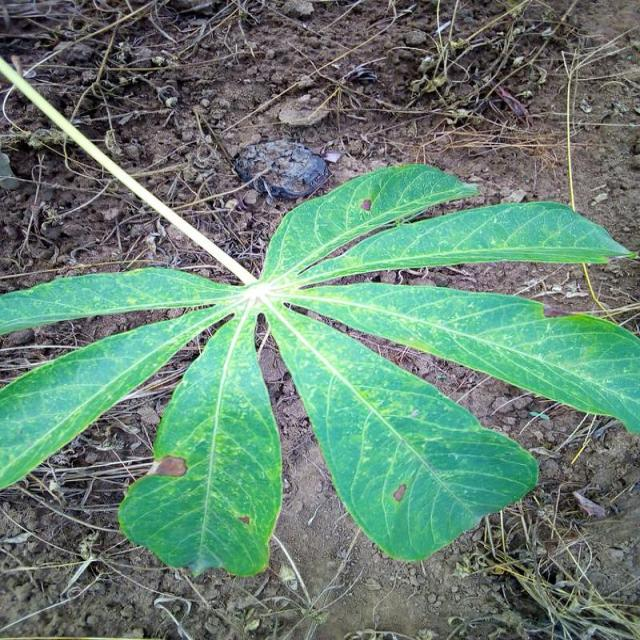cassava leaf: (2, 157, 639, 575), (263, 298, 540, 562), (118, 304, 284, 577)
